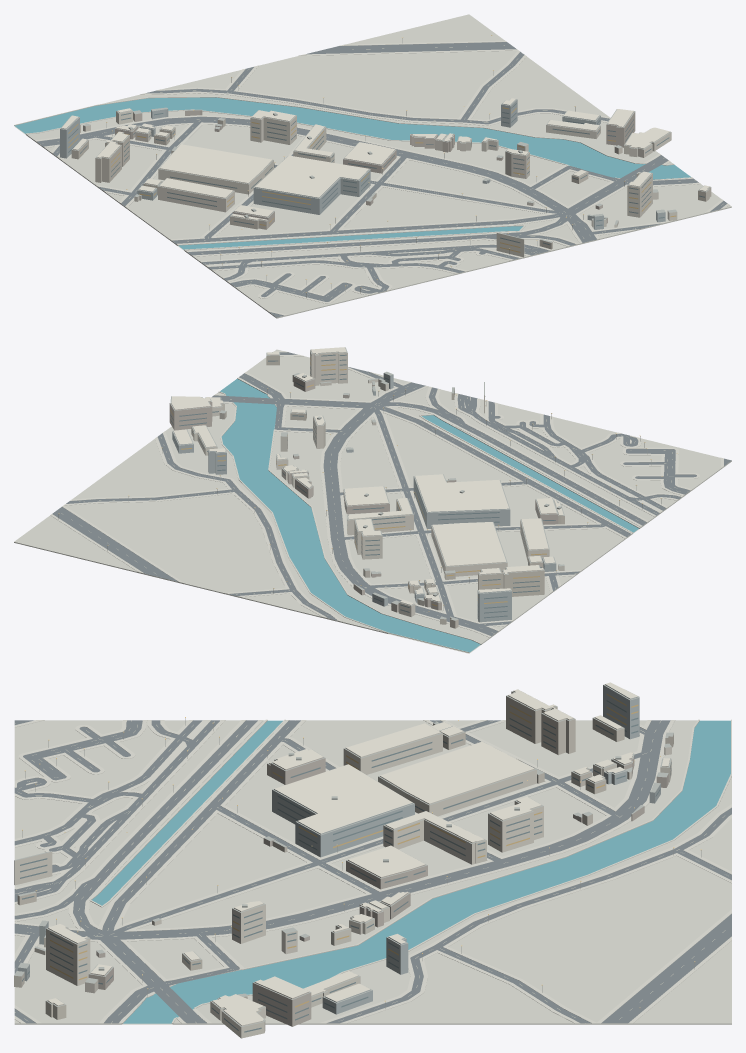
3 views of the same model, one above another, from view 1: azimuth 30°, elevation 25°; view 2: azimuth 150°, elevation 25°; view 3: azimuth 270°, elevation 25° (orthographic). The views are drawn at different scales.
Parts seen in each view (by area): view 1: city; view 2: city; view 3: city.
Part boxes in pixels (box(x1,y1,x2,y2)): city: box(14, 14, 731, 318); city: box(14, 347, 731, 653); city: box(14, 682, 731, 1038).
Size of the model in its own units: 525 by 33.45 by 500.
